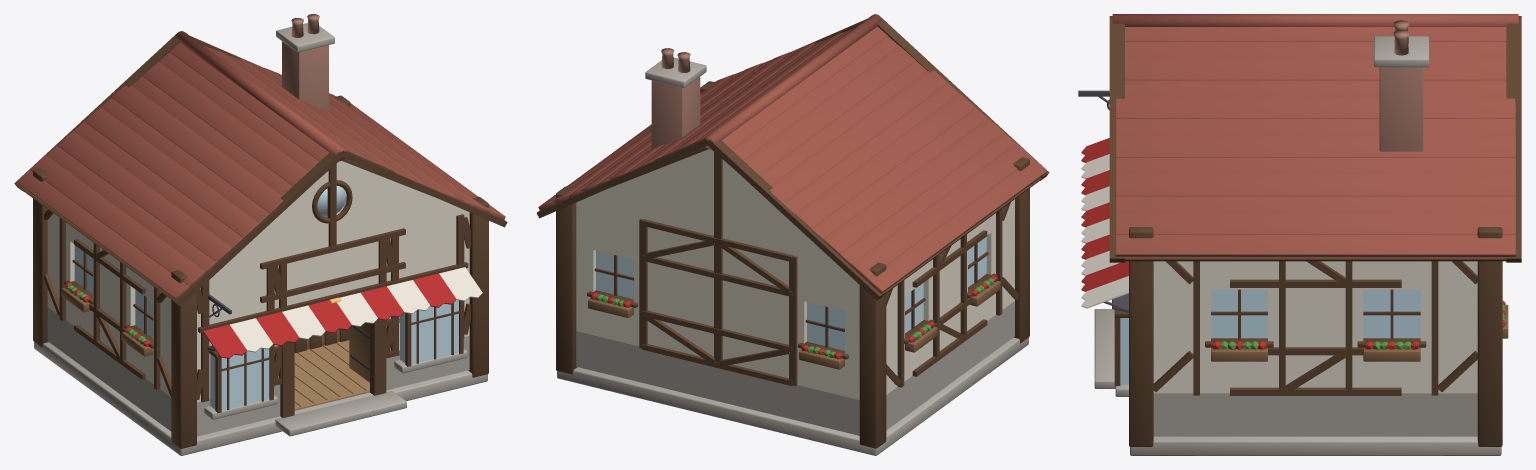
The model's file is Shop.glb.
3 renders of one model, left to right at view 1: azimuth 30°, elevation 25°; view 2: azimuth 150°, elevation 25°; view 3: azimuth 270°, elevation 25°, orthographic. The views are drawn at different scales.
Visible parts, largest first — view 1: ShopHouse__Tile_1, ShopHouse__WoodDark_1, ShopHouse__Plaster_S1, ShopHouse__Stone_S1, ShopHouse__WoodDark_S1, ShopHouse__Glass_1, ShopHouse__Red_1, ShopHouse__Fabric_1, ShopHouse__Plank_S1, ShopHouse__Brick_S1, ShopHouse__Wood_1, ShopHouse__Stone_1 (+1 smaller); view 2: ShopHouse__Tile_1, ShopHouse__Plaster_S1, ShopHouse__WoodDark_1, ShopHouse__Stone_S1, ShopHouse__WoodDark_S1, ShopHouse__Glass_1, ShopHouse__Brick_S1, ShopHouse__Wood_1, ShopHouse__Stone_1, ShopHouse__Leaf_1; view 3: ShopHouse__Tile_1, ShopHouse__Plaster_S1, ShopHouse__Stone_S1, ShopHouse__WoodDark_1, ShopHouse__WoodDark_S1, ShopHouse__Glass_1, ShopHouse__Brick_S1, ShopHouse__Red_1, ShopHouse__Fabric_1, ShopHouse__Wood_1, ShopHouse__Stone_1, ShopHouse__Iron_1 (+2 smaller).
Part boxes in pixels (x1,y1,x2,y2): ShopHouse__Tile_1: (16,31,505,299); ShopHouse__WoodDark_1: (14,33,507,417); ShopHouse__Plaster_S1: (47,161,469,402); ShopHouse__Stone_S1: (34,307,487,455); ShopHouse__WoodDark_S1: (33,95,488,448); ShopHouse__Glass_1: (74,186,458,410); ShopHouse__Red_1: (64,273,456,358); ShopHouse__Fabric_1: (230,267,482,352); ShopHouse__Plank_S1: (294,340,369,410); ShopHouse__Brick_S1: (282,41,328,110); ShopHouse__Wood_1: (61,287,369,382); ShopHouse__Stone_1: (276,23,334,52); ShopHouse__Tile_1: (538,14,1047,293); ShopHouse__Plaster_S1: (576,149,1014,400); ShopHouse__WoodDark_1: (536,17,1049,387); ShopHouse__Stone_S1: (557,301,1028,455); ShopHouse__WoodDark_S1: (556,81,1029,448); ShopHouse__Glass_1: (596,237,986,350); ShopHouse__Brick_S1: (651,77,700,148); ShopHouse__Wood_1: (588,280,1000,369); ShopHouse__Stone_1: (645,57,706,87); ShopHouse__Leaf_1: (595,278,994,357); ShopHouse__Tile_1: (1112,14,1518,257); ShopHouse__Plaster_S1: (1153,261,1477,393); ShopHouse__Stone_S1: (1094,309,1501,455); ShopHouse__WoodDark_1: (1109,16,1521,395); ShopHouse__WoodDark_S1: (1129,227,1502,446); ShopHouse__Glass_1: (1120,289,1420,384); ShopHouse__Brick_S1: (1379,67,1423,151); ShopHouse__Red_1: (1081,138,1505,349); ShopHouse__Fabric_1: (1081,154,1128,308); ShopHouse__Wood_1: (1211,304,1508,361); ShopHouse__Stone_1: (1374,36,1429,67); ShopHouse__Iron_1: (1078,90,1128,312).
Bounding box in the file's own units: 50.63 × 50.4 × 46.5.
